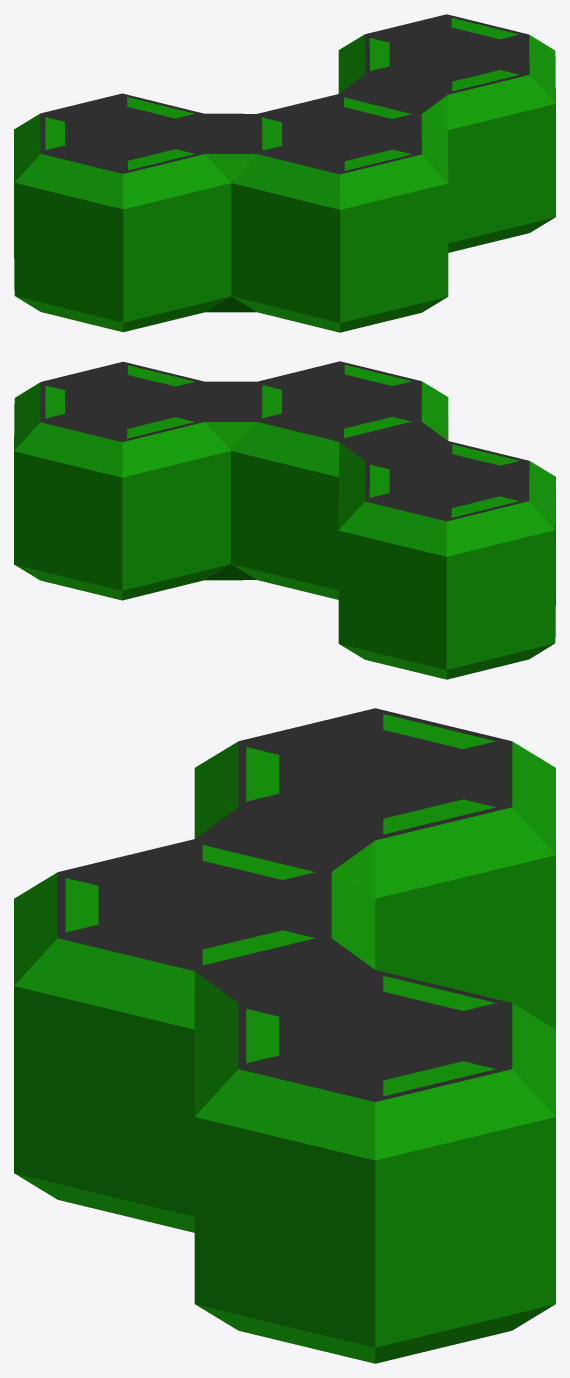
File: SM_Module_Armour3_B_BO.fbx
3 renders of one model, top to bottom at view 1: azimuth 30°, elevation 25°; view 2: azimuth 150°, elevation 25°; view 3: azimuth 270°, elevation 25°, orthographic. The views are drawn at different scales.
Parts seen in each view (by area): view 1: SM_Module_Armour3_B_BO; view 2: SM_Module_Armour3_B_BO; view 3: SM_Module_Armour3_B_BO.
Part boxes in pixels (<box>): SM_Module_Armour3_B_BO: <box>14,14,555,332</box>; SM_Module_Armour3_B_BO: <box>14,361,555,679</box>; SM_Module_Armour3_B_BO: <box>14,708,555,1363</box>.
Bounding box in the file's own units: 10 × 5.25 × 2.8.
